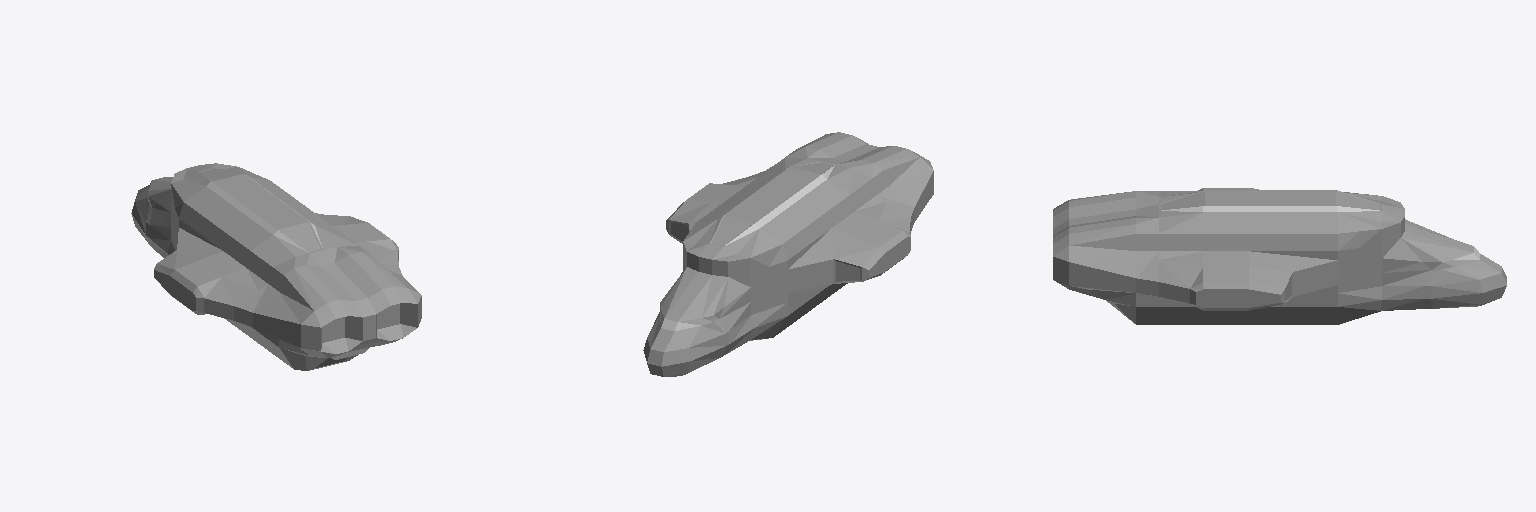
Rendered from wescott-8-beta.obj.
3 views of the same model, side by side, from view 1: azimuth 30°, elevation 25°; view 2: azimuth 150°, elevation 25°; view 3: azimuth 270°, elevation 25° (orthographic).
Parts seen in each view (by area): view 1: Cube; view 2: Cube; view 3: Cube.
Part boxes in pixels (bbox=[...]): Cube: bbox=[131, 163, 421, 370]; Cube: bbox=[643, 132, 933, 376]; Cube: bbox=[1053, 188, 1506, 324].
Bounding box in the file's own units: 4.2 × 2.28 × 8.14.